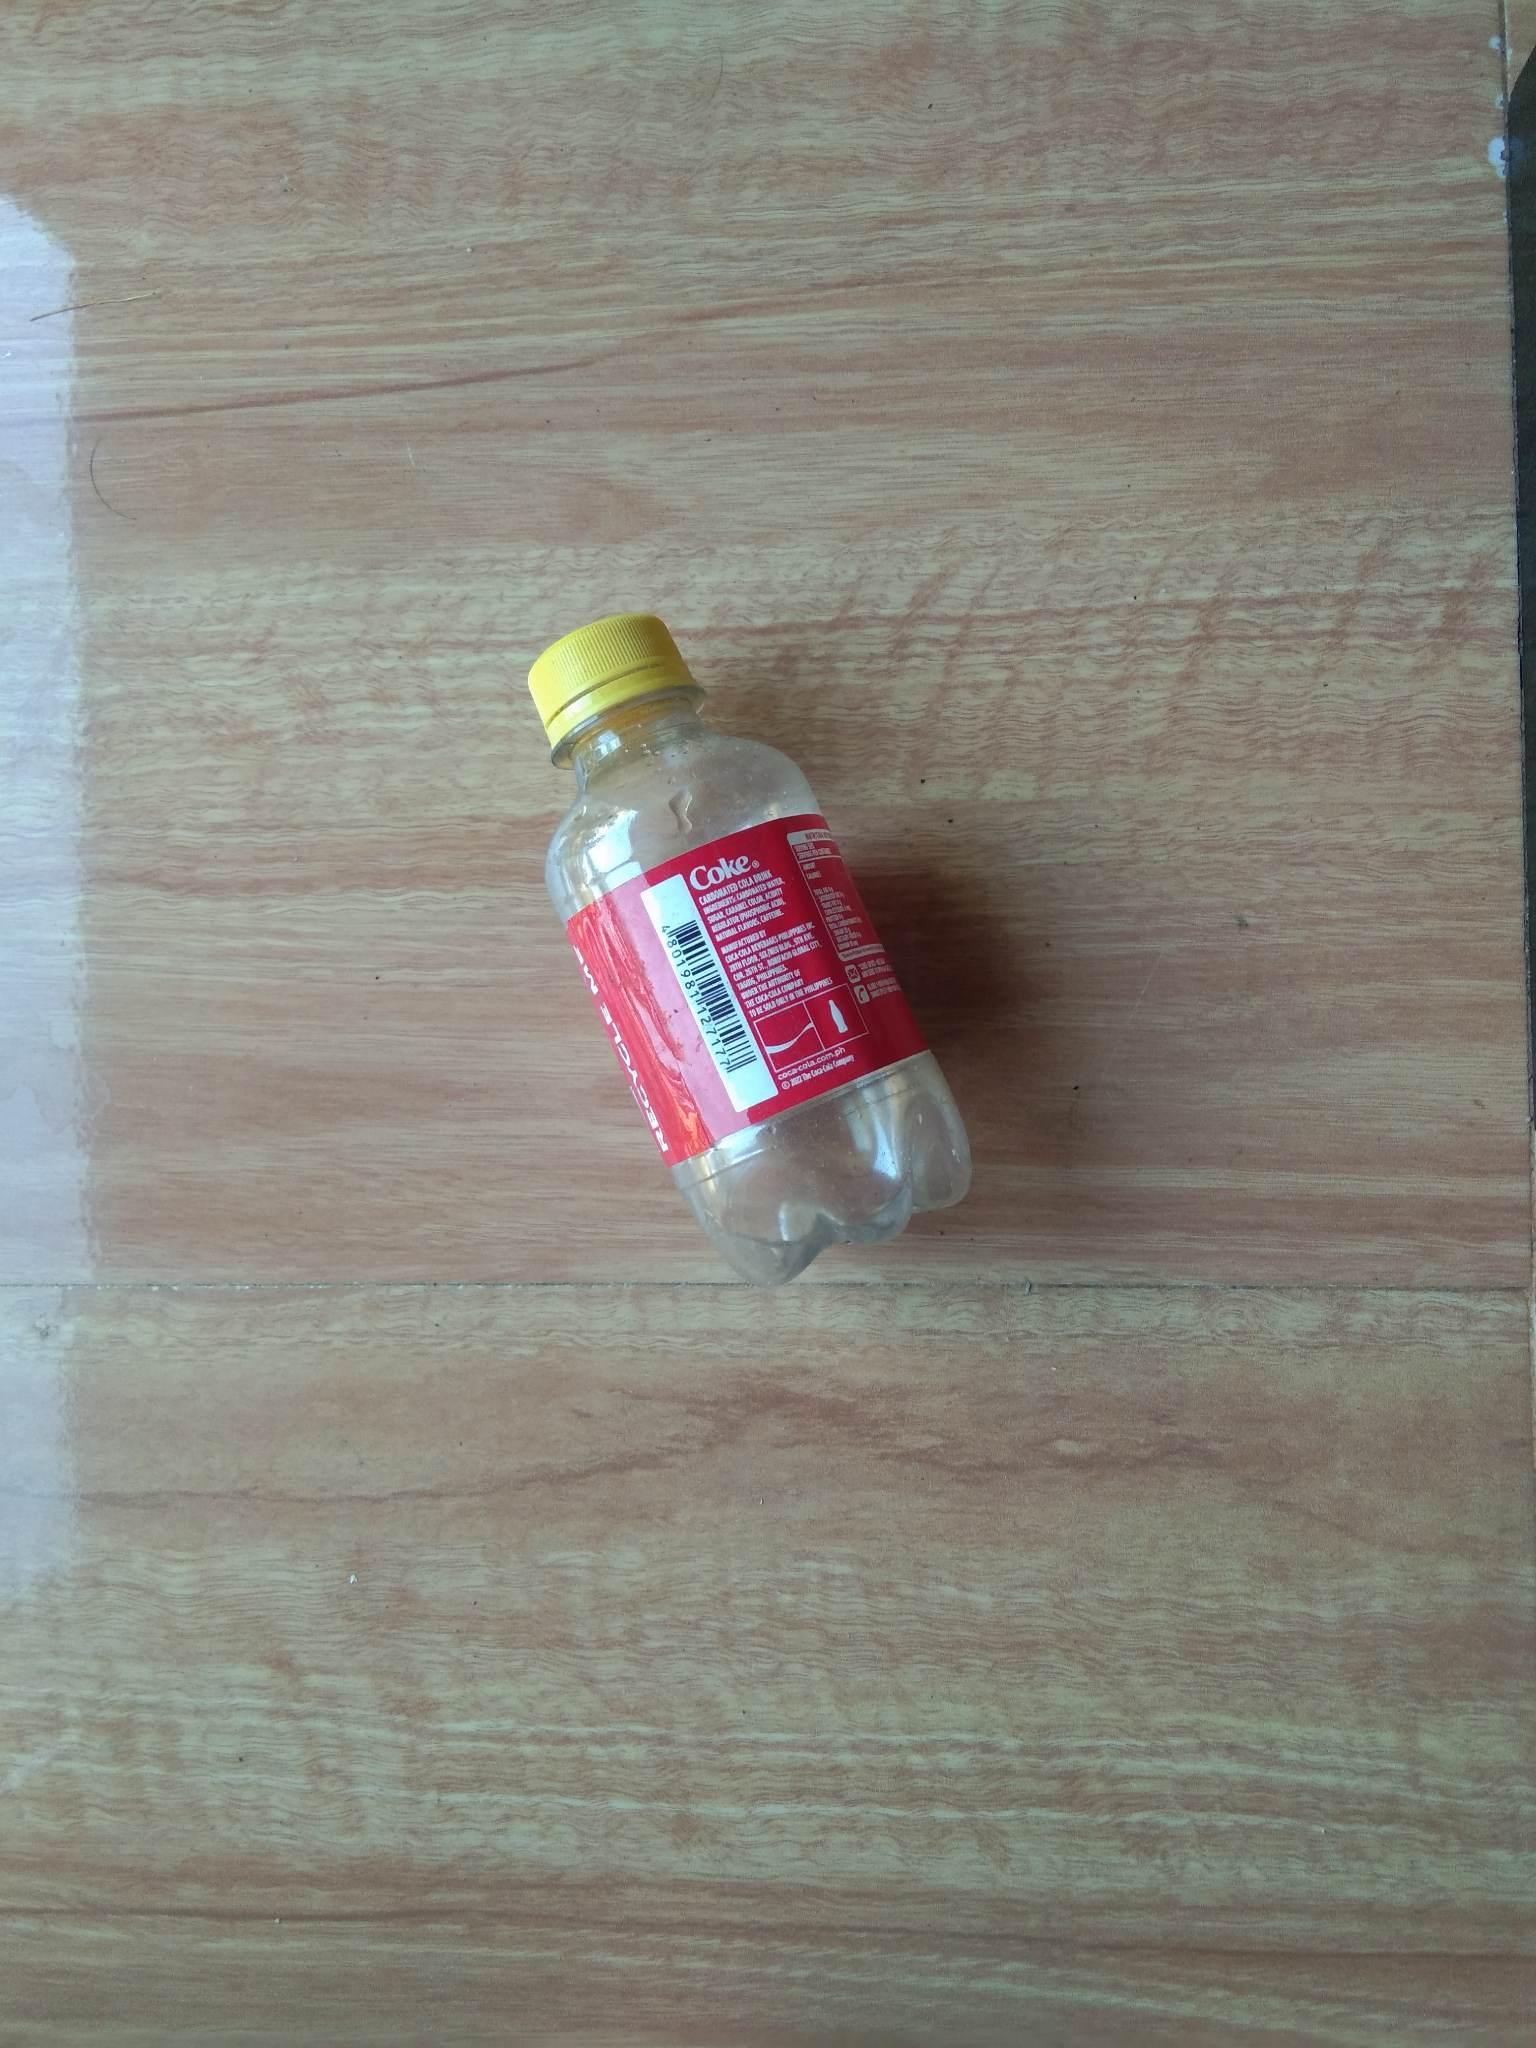plastic: (397, 556, 1036, 1361)
